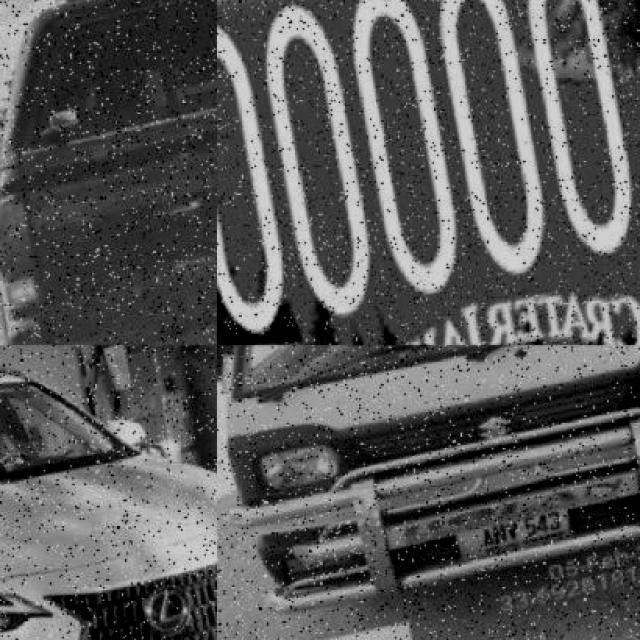licenseplate: (217, 0, 640, 345), (446, 508, 578, 572)
